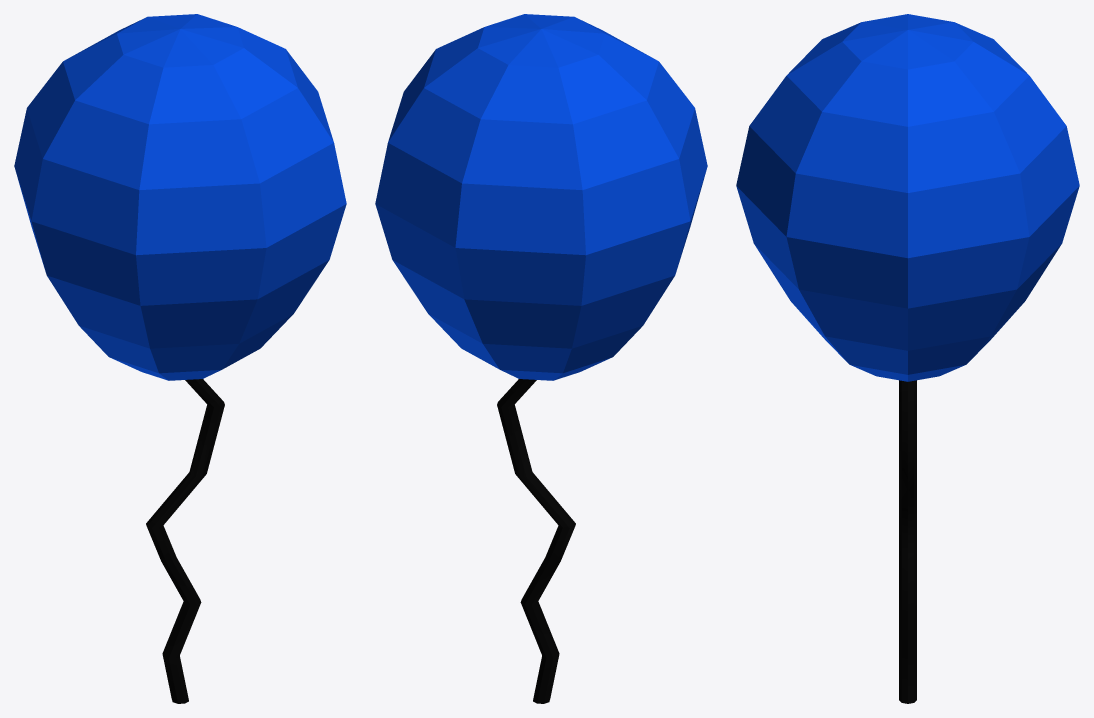
The model's file is Blue ballon.fbx.
The picture shows the model from 3 angles, left to right: view 1: azimuth 30°, elevation 25°; view 2: azimuth 150°, elevation 25°; view 3: azimuth 270°, elevation 25°; orthographic projection.
Parts seen in each view (by area): view 1: pSphere1, pCylinder1; view 2: pSphere1, pCylinder1; view 3: pSphere1, pCylinder1.
Boxes of the visible parts, box(x1,y1,x2,y2) form: pSphere1: box(14, 14, 346, 380); pCylinder1: box(146, 379, 224, 703); pSphere1: box(375, 14, 707, 380); pCylinder1: box(497, 379, 575, 703); pSphere1: box(736, 14, 1079, 381); pCylinder1: box(899, 380, 916, 703).
Bounding box in the file's own units: 2 × 4.3 × 2.
